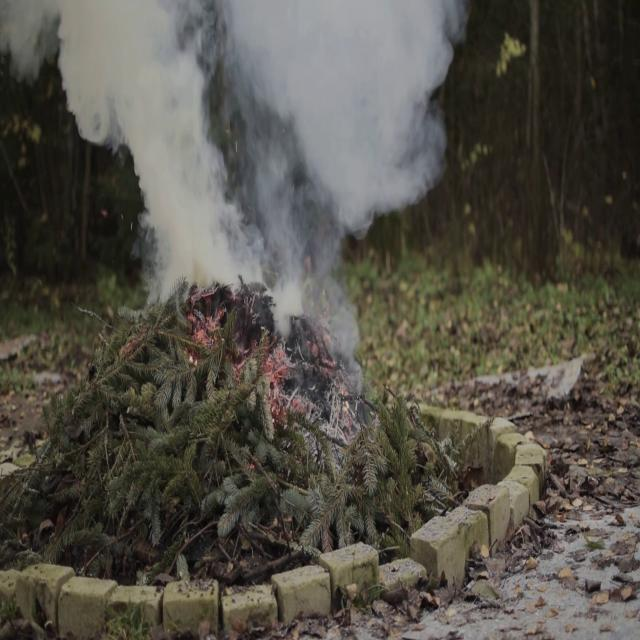Smoke: (71, 0, 263, 305)
